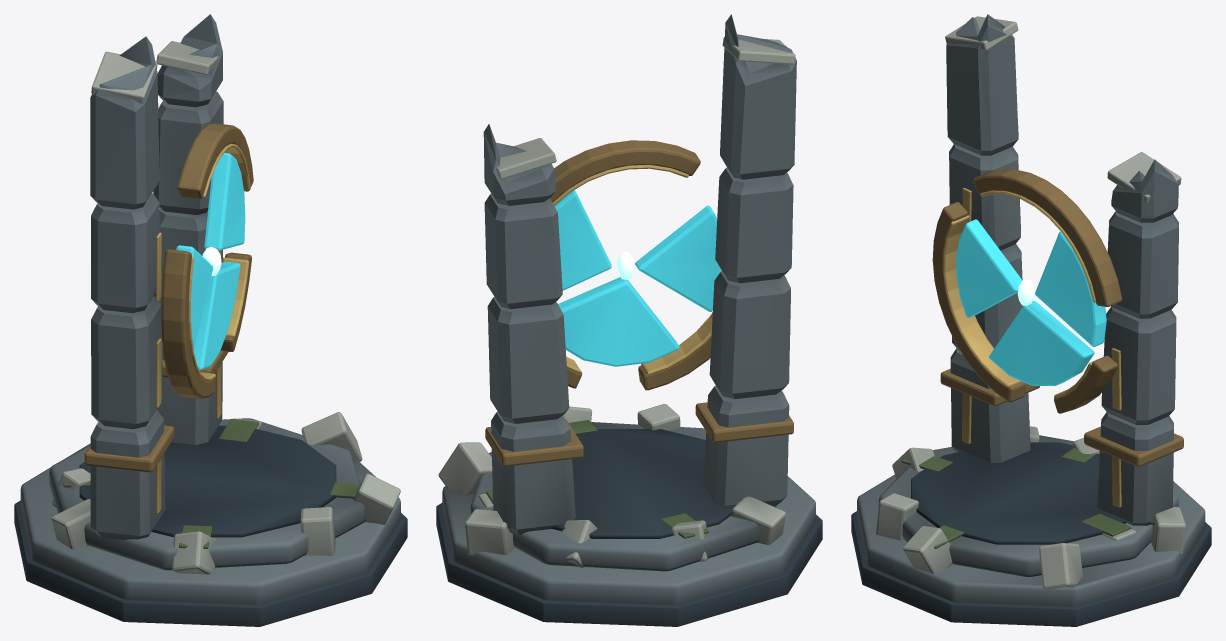
The model's file is skyreach-fallen-beacon-v1.glb.
3 views of the same model, side by side, from view 1: azimuth 30°, elevation 25°; view 2: azimuth 150°, elevation 25°; view 3: azimuth 270°, elevation 25° (orthographic). The views are drawn at different scales.
Visible parts, largest first — view 1: GB_BEACON_Stone, GB_BEACON_Recess, GB_BEACON_Fracture, GB_BEACON_Bronze, GB_BEACON_Lens, GB_BEACON_Inlay, GB_BEACON_Moss; view 2: GB_BEACON_Stone, GB_BEACON_Recess, GB_BEACON_Lens, GB_BEACON_Fracture, GB_BEACON_Bronze, GB_BEACON_Inlay, GB_BEACON_Moss; view 3: GB_BEACON_Stone, GB_BEACON_Recess, GB_BEACON_Lens, GB_BEACON_Bronze, GB_BEACON_Fracture, GB_BEACON_Inlay, GB_BEACON_Moss.
Boxes of the visible parts, bbox=[...] form: GB_BEACON_Stone: bbox=[20, 14, 400, 604]; GB_BEACON_Recess: bbox=[14, 425, 407, 626]; GB_BEACON_Fracture: bbox=[51, 41, 400, 574]; GB_BEACON_Bronze: bbox=[84, 123, 253, 472]; GB_BEACON_Lens: bbox=[176, 152, 245, 370]; GB_BEACON_Inlay: bbox=[155, 143, 250, 513]; GB_BEACON_Moss: bbox=[63, 419, 360, 548]; GB_BEACON_Stone: bbox=[442, 14, 815, 604]; GB_BEACON_Recess: bbox=[436, 429, 822, 626]; GB_BEACON_Lens: bbox=[554, 190, 721, 366]; GB_BEACON_Fracture: bbox=[438, 36, 795, 567]; GB_BEACON_Bronze: bbox=[485, 140, 793, 466]; GB_BEACON_Inlay: bbox=[552, 165, 712, 374]; GB_BEACON_Moss: bbox=[486, 420, 708, 538]; GB_BEACON_Stone: bbox=[857, 14, 1205, 606]; GB_BEACON_Recess: bbox=[851, 442, 1211, 626]; GB_BEACON_Lens: bbox=[956, 219, 1106, 385]; GB_BEACON_Bronze: bbox=[932, 169, 1183, 466]; GB_BEACON_Fracture: bbox=[876, 16, 1185, 589]; GB_BEACON_Inlay: bbox=[943, 188, 1121, 507]; GB_BEACON_Moss: bbox=[901, 447, 1154, 548].
Size of the model in its own units: 3.22 by 4.9 by 3.2.
